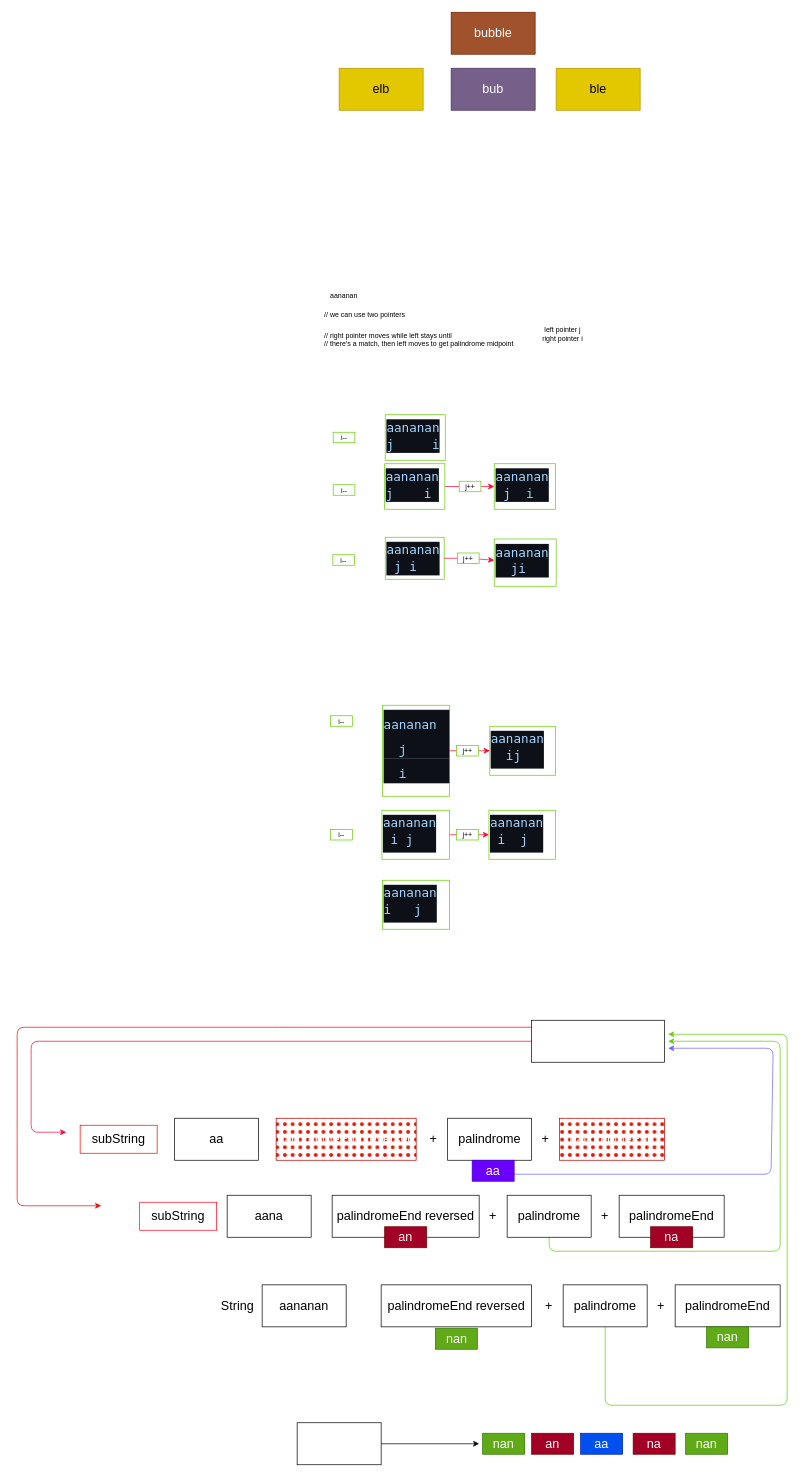
The diagram is 805 pixels wide and 1477 high, and some of its shapes have lost their labels. Here are the shapes that lost their labels. From the top down, the box of each, then its label:
(531, 1020, 665, 1062): shortest palindrome
(296, 1422, 381, 1465): return
